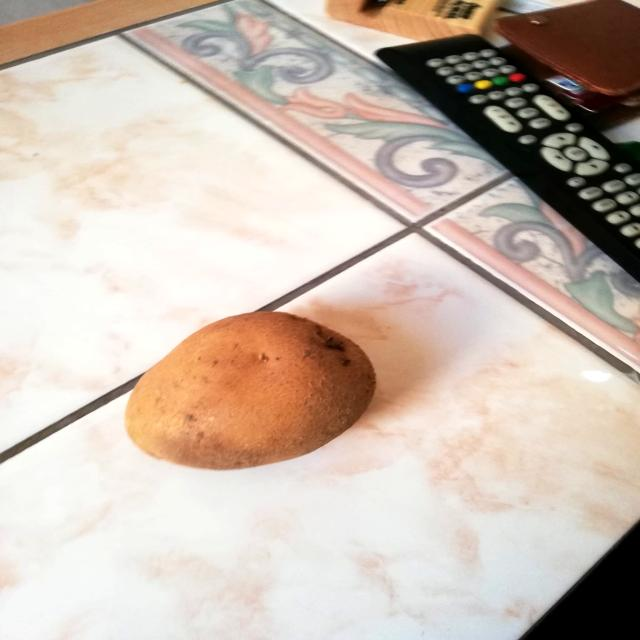potato: (114, 301, 383, 476)
